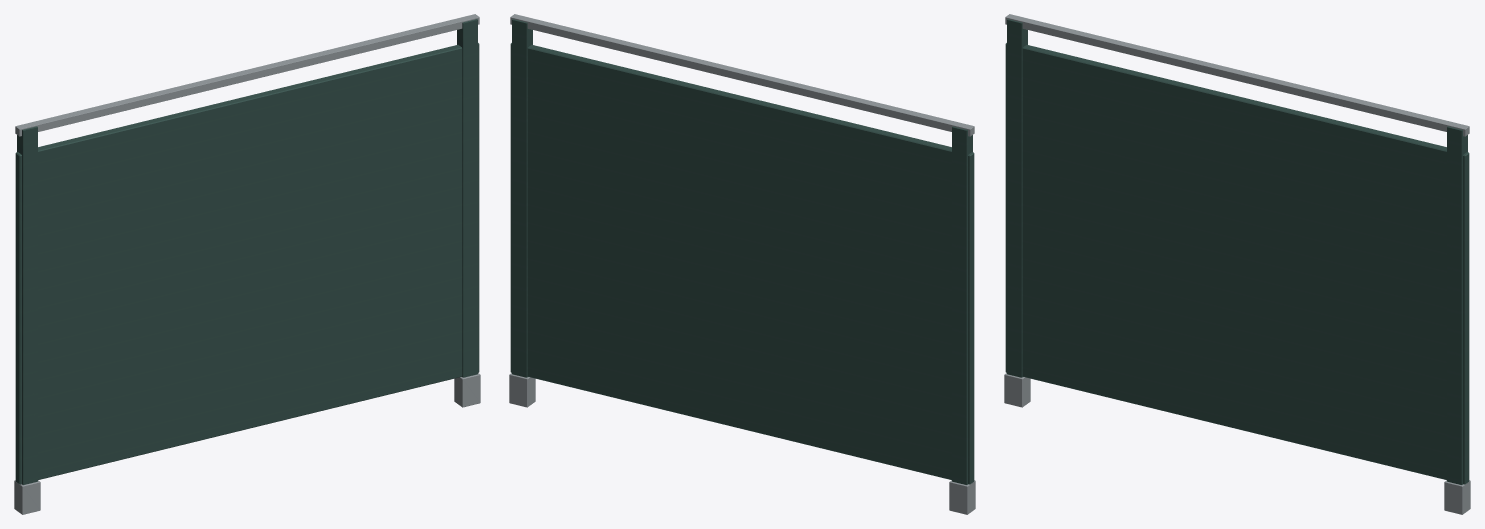
Rendered from restroom_stall_divider.glb.
3 renders of one model, left to right at view 1: azimuth 30°, elevation 25°; view 2: azimuth 150°, elevation 25°; view 3: azimuth 330°, elevation 25°, orthographic.
Parts seen in each view (by area): view 1: restroom_stall_divider; view 2: restroom_stall_divider; view 3: restroom_stall_divider.
Boxes of the visible parts, left/top/right/bottom form: restroom_stall_divider: left=14, top=14, right=480, bottom=514; restroom_stall_divider: left=509, top=14, right=975, bottom=514; restroom_stall_divider: left=1004, top=14, right=1470, bottom=514.
Size of the model in its own units: 2.5 by 2 by 0.078.
Materials: 2 (2 with a texture image).
